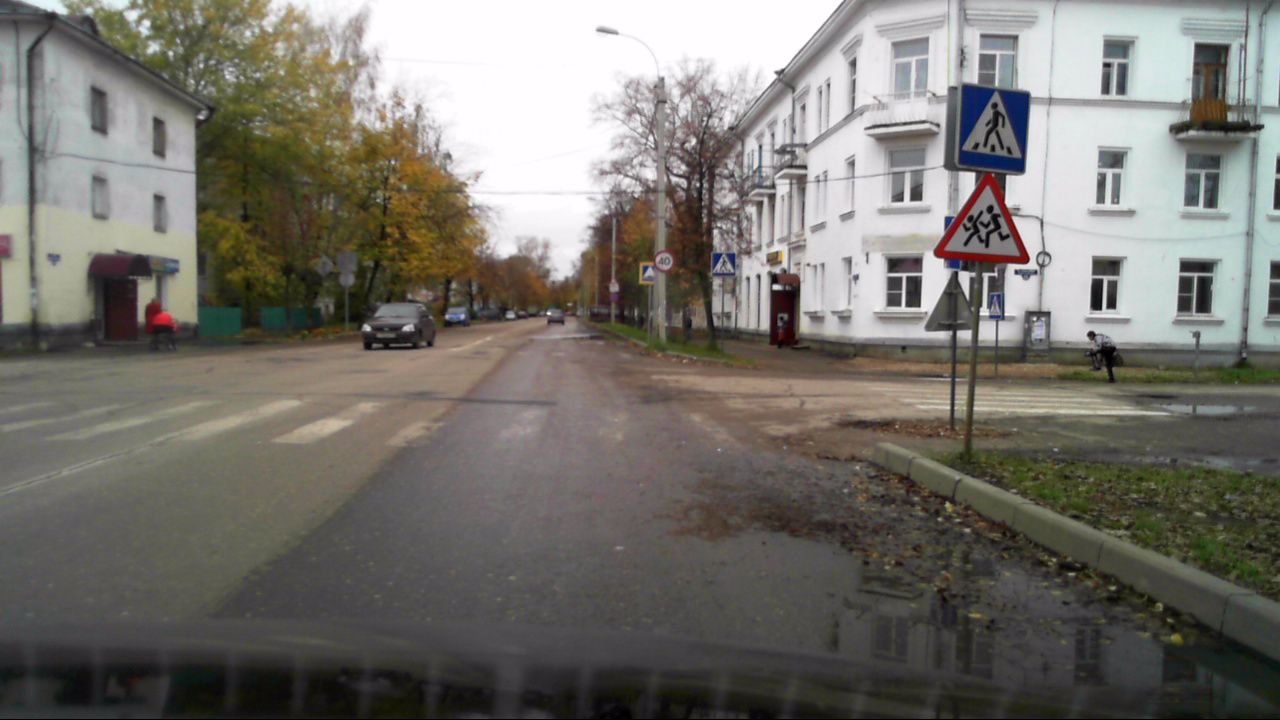speed_warning_40: (653, 250, 674, 271)
